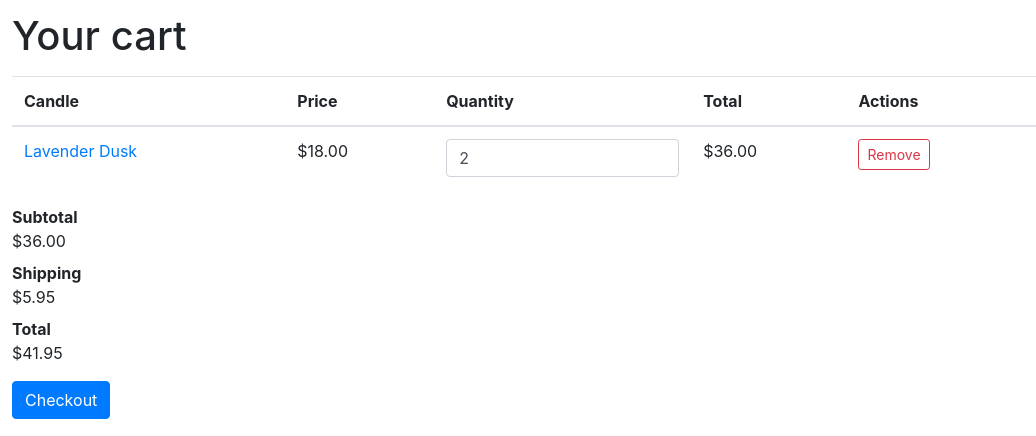
CartComponent › [BR-C3] shows the empty state after removing the last line
Click the button "Remove": point(894, 154) [858,139,930,170]
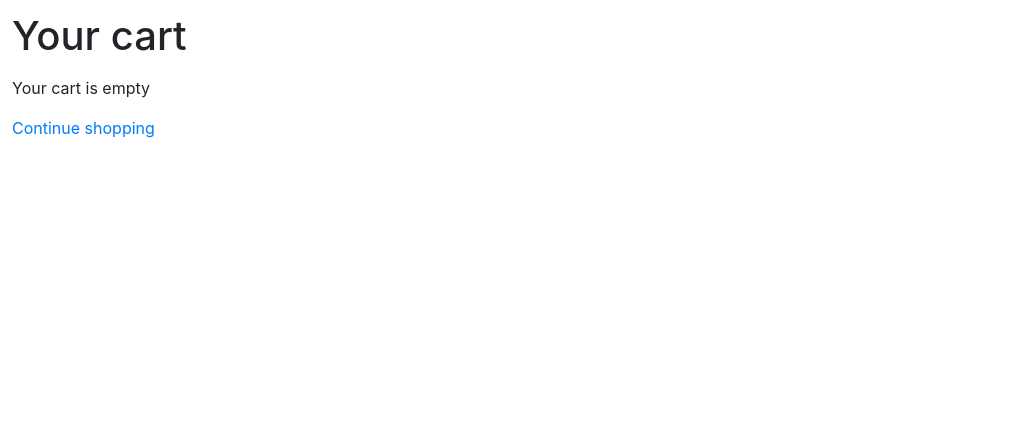
Result: the text "Your cart is empty" is shown at [12,78,150,98]
Result: the table is gone
